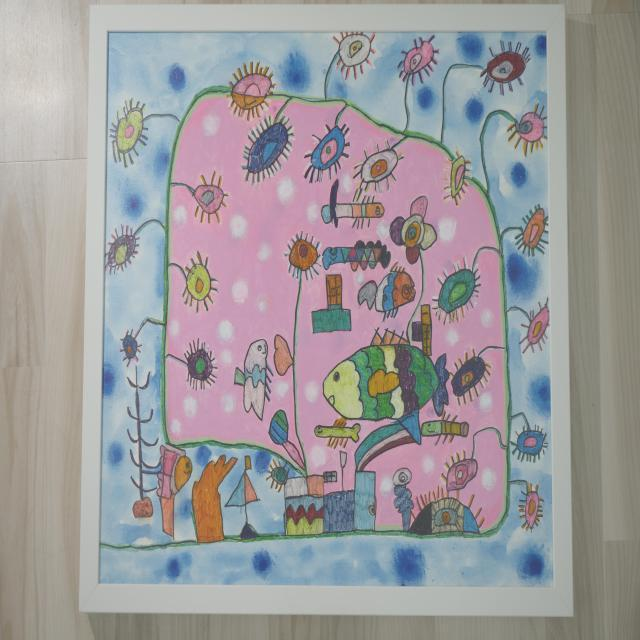painting: (79, 6, 572, 615)
